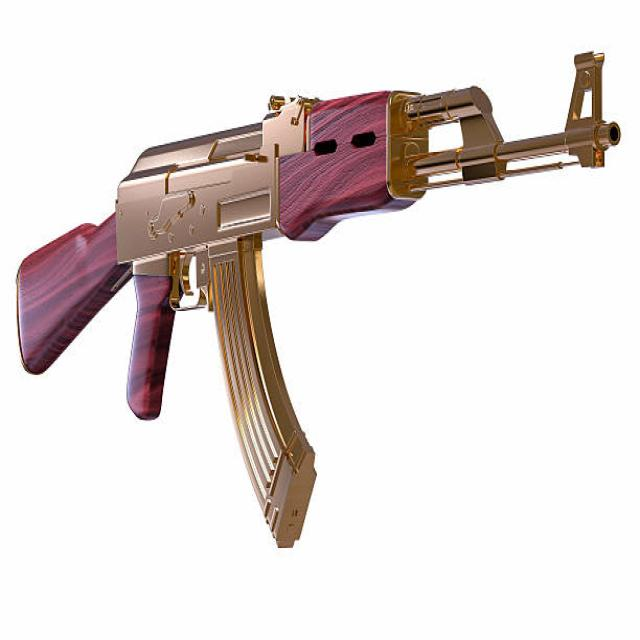rifle: (10, 34, 625, 570)
